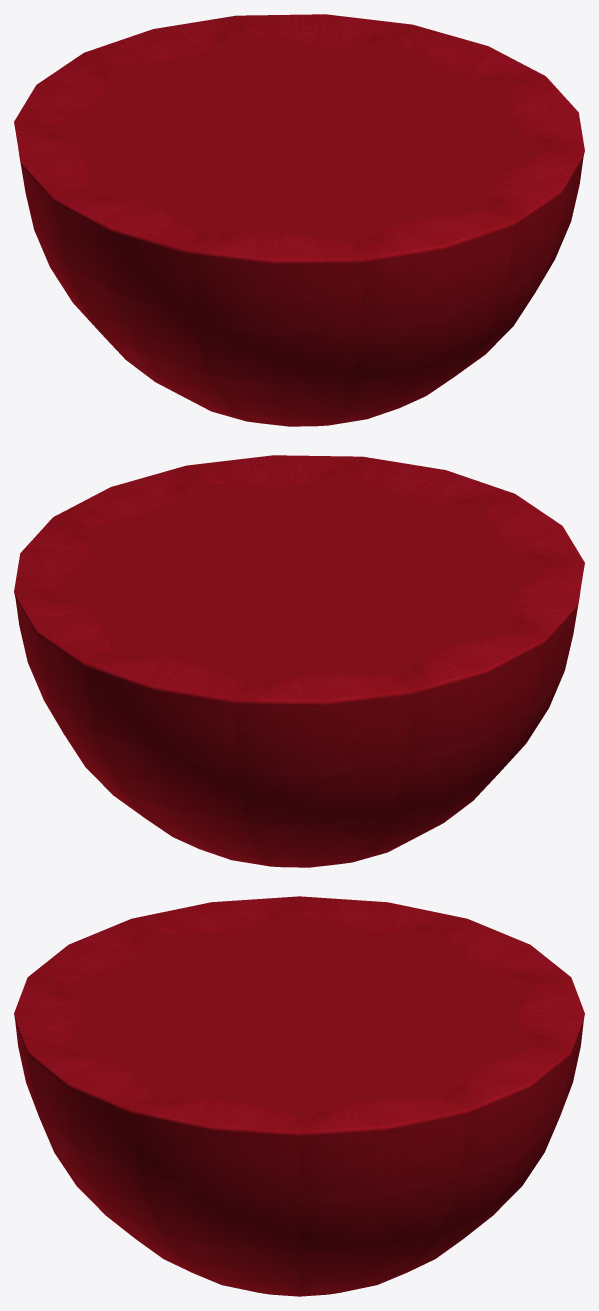
File: PotionLiquid.fbx
3 views of the same model, one above another, from view 1: azimuth 30°, elevation 25°; view 2: azimuth 150°, elevation 25°; view 3: azimuth 270°, elevation 25° (orthographic). The views are drawn at different scales.
Visible parts, largest first — view 1: pSphere2; view 2: pSphere2; view 3: pSphere2.
Part boxes in pixels (x1,y1,x2,y2): pSphere2: [14, 14, 584, 426]; pSphere2: [14, 455, 584, 867]; pSphere2: [14, 896, 584, 1296].
Bounding box in the file's own units: 1.91 × 1.01 × 1.97.
1 material, 1 textured.
